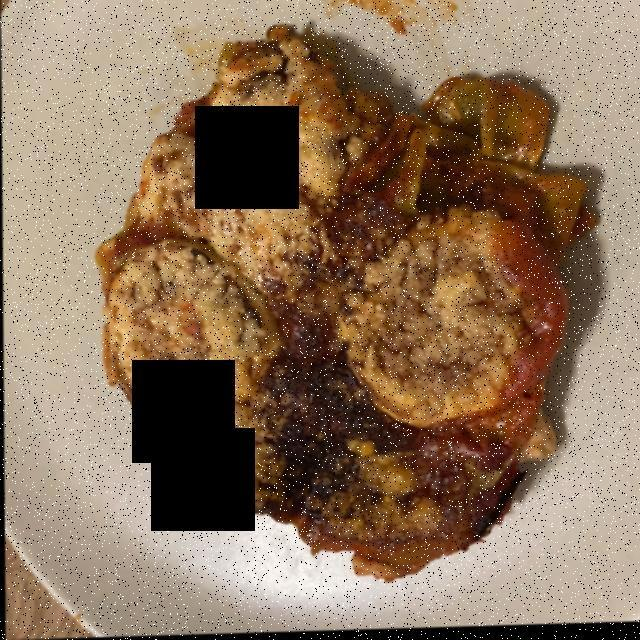lasagne: (110, 30, 610, 561)
